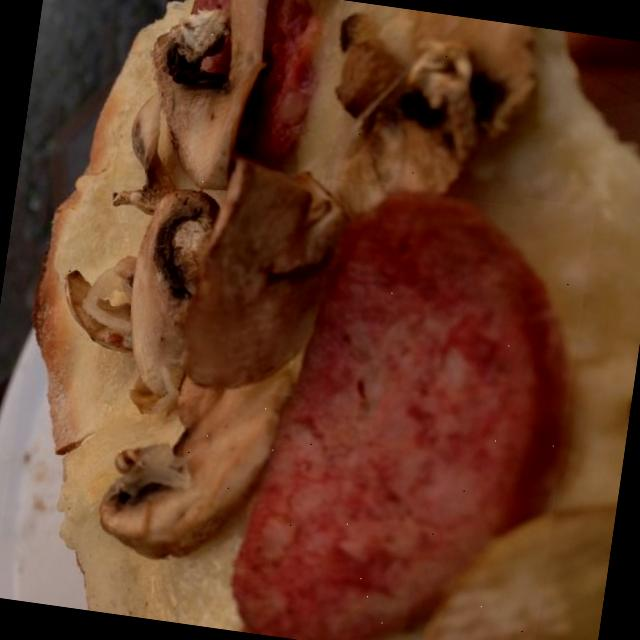mushrooms: (166, 152, 360, 402), (324, 1, 546, 207), (96, 344, 296, 572), (136, 0, 272, 194), (112, 171, 215, 397), (108, 85, 186, 229), (49, 248, 153, 352)
pizza: (32, 0, 640, 640)
tomato: (228, 164, 595, 640)
